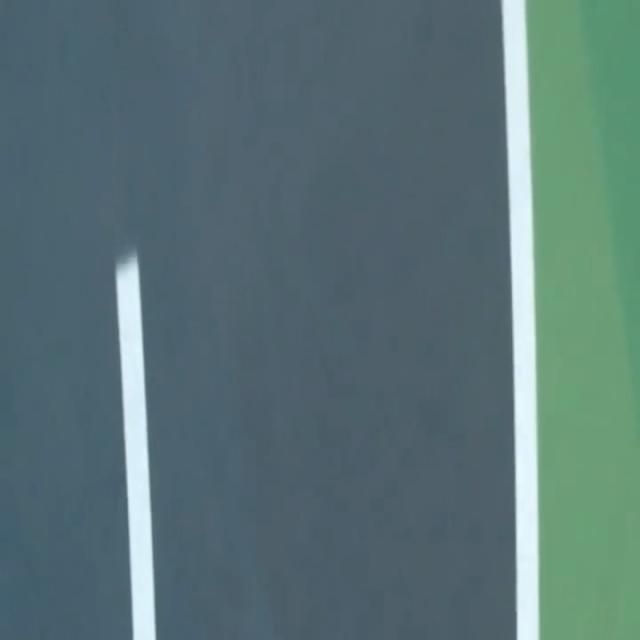center: (116, 253, 156, 639)
right: (501, 0, 539, 639)
